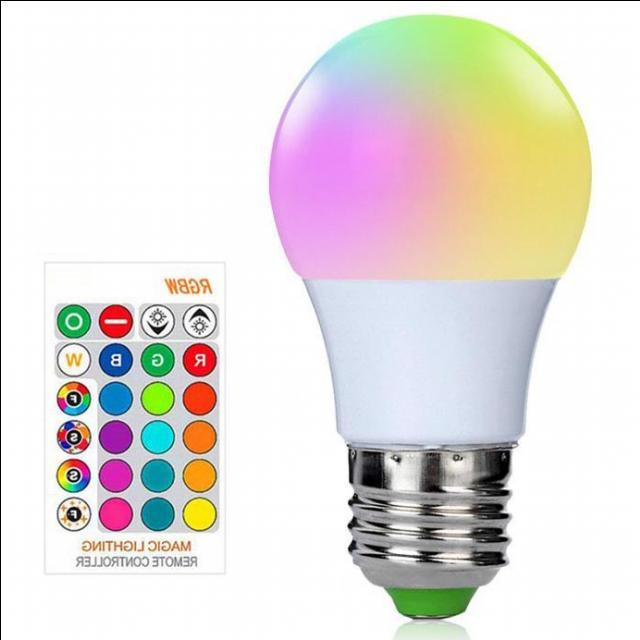light_bulb: (260, 8, 600, 628)
